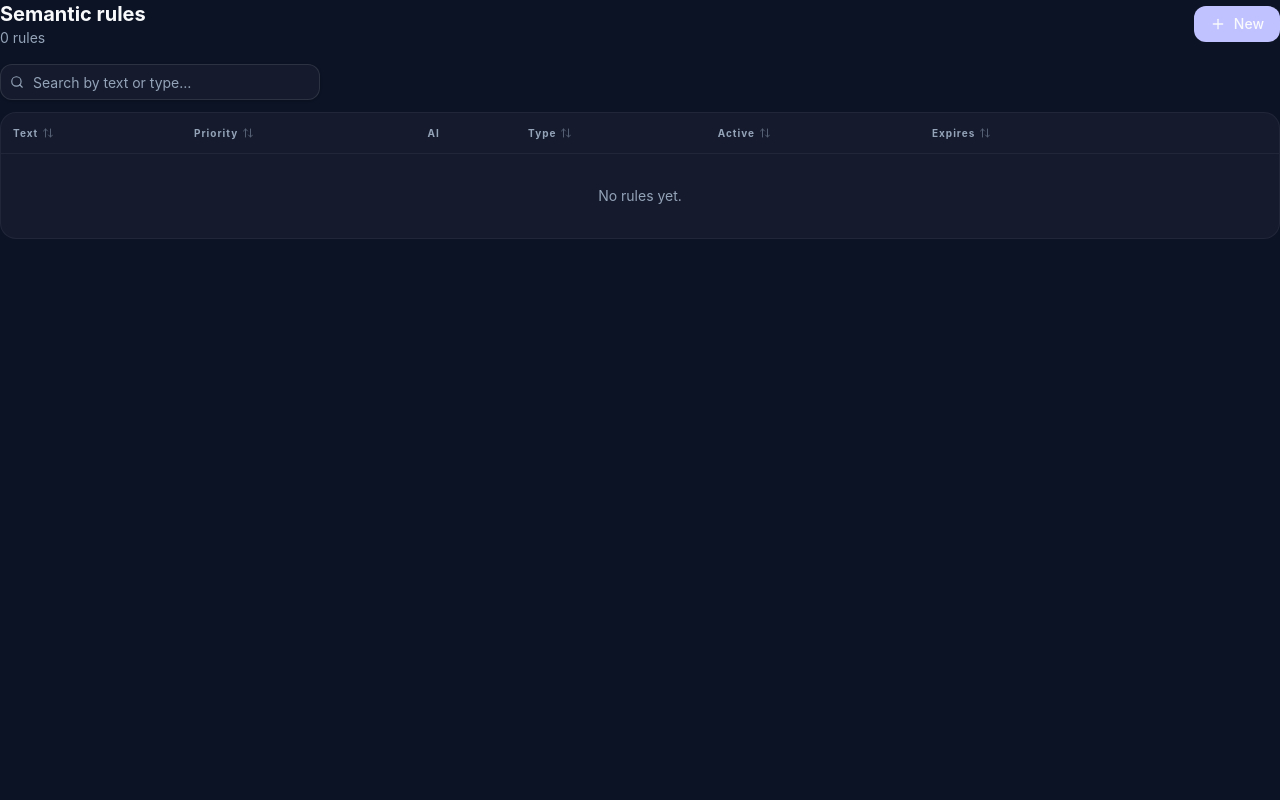
Scenario: RulesPage › cuando el LLM detecta duplicado, el dialog queda abierto con el ID existente
Check: the text "No rules yet." is shown, box [1, 153, 1279, 238]
Click the button with test id "new-rule-btn" at point(1237, 24), box [1194, 6, 1279, 42]
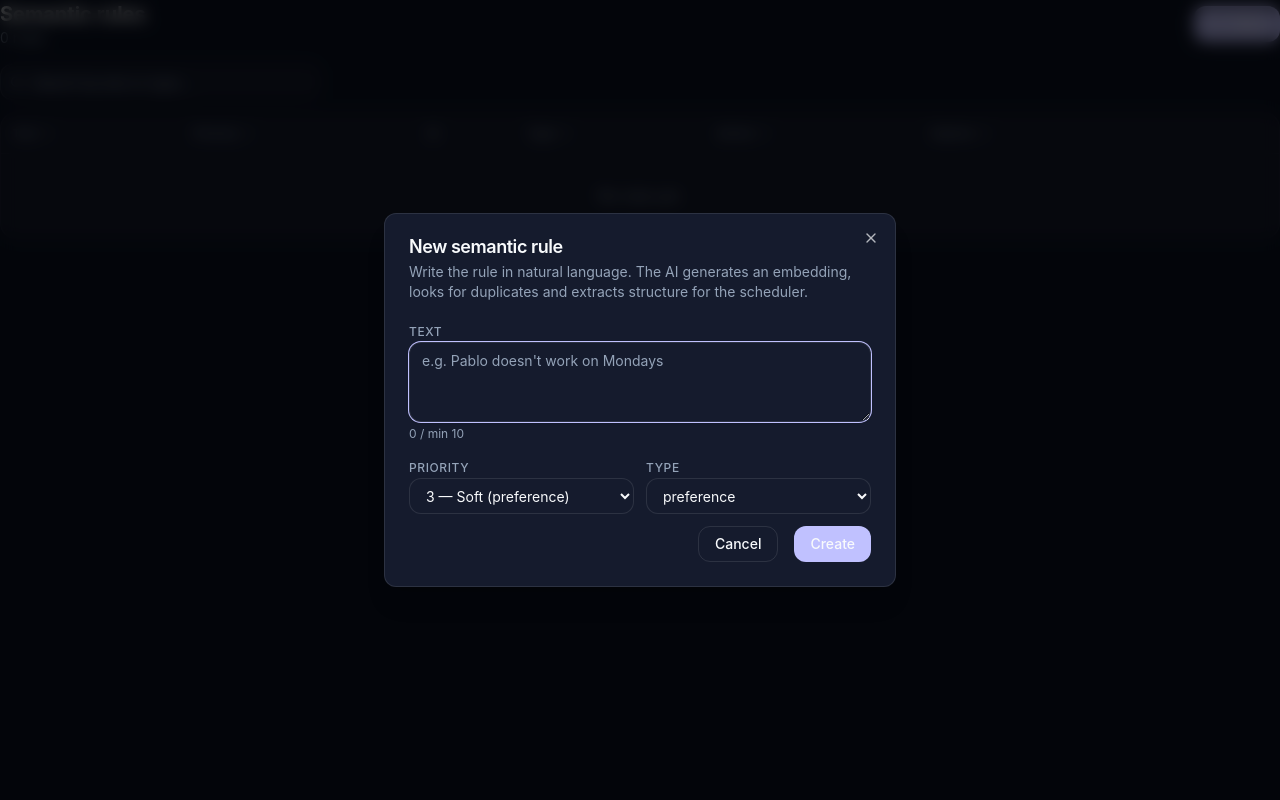
Type "Pablo no trabaja los lunes" into the text box with test id "r-text-input" at point(640, 382), box [409, 342, 871, 422]
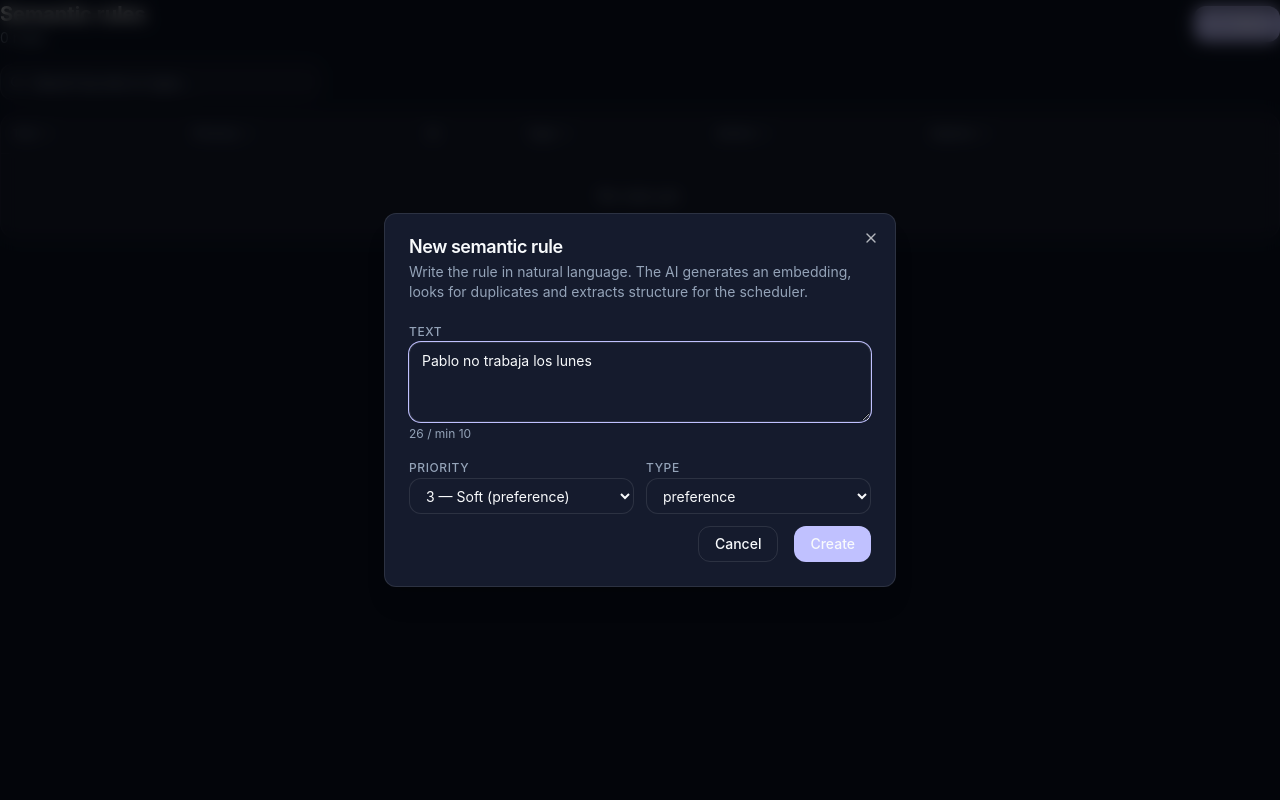
Click the button with test id "r-submit" at point(833, 544), box [794, 526, 871, 562]
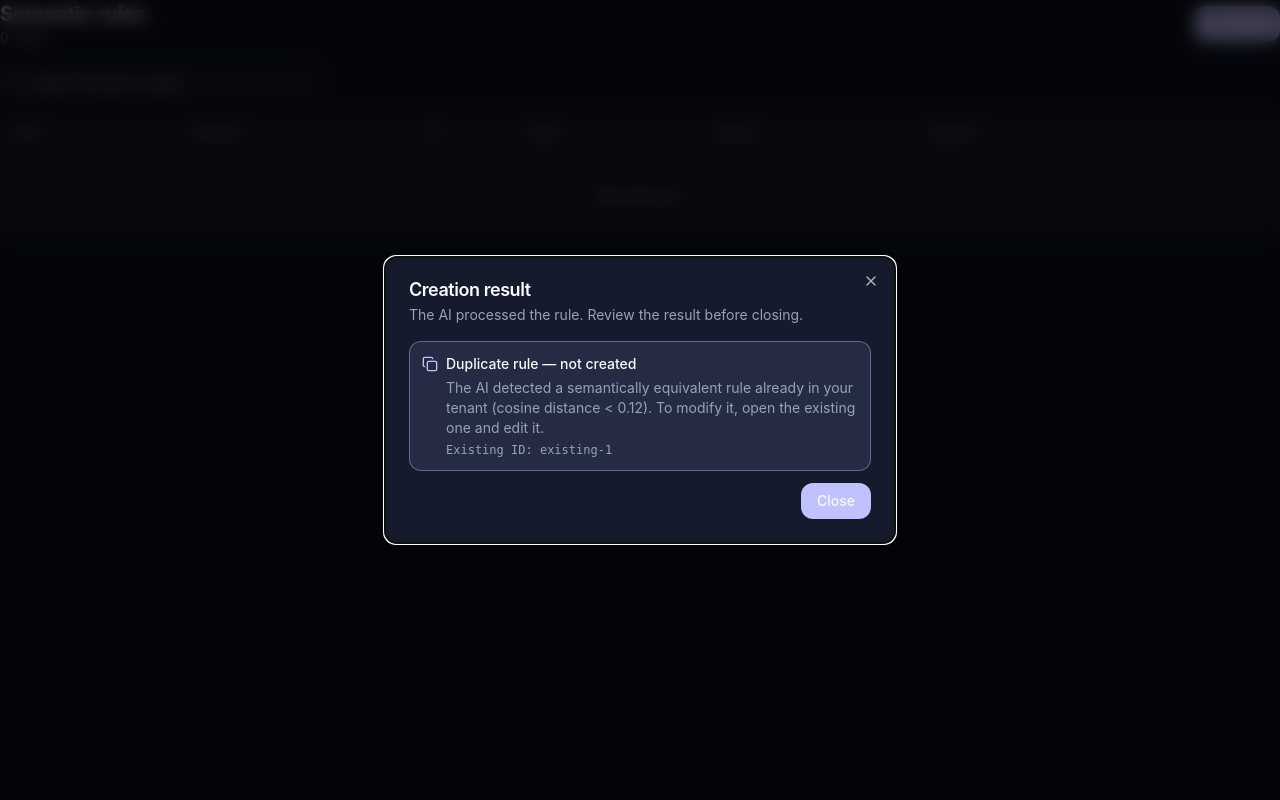
Check: the element with test id "r-result-panel" is shown, box [409, 341, 871, 519]
Check: the text with test id "r-duplicate-of-id" shows "existing-1", box [446, 443, 612, 457]
